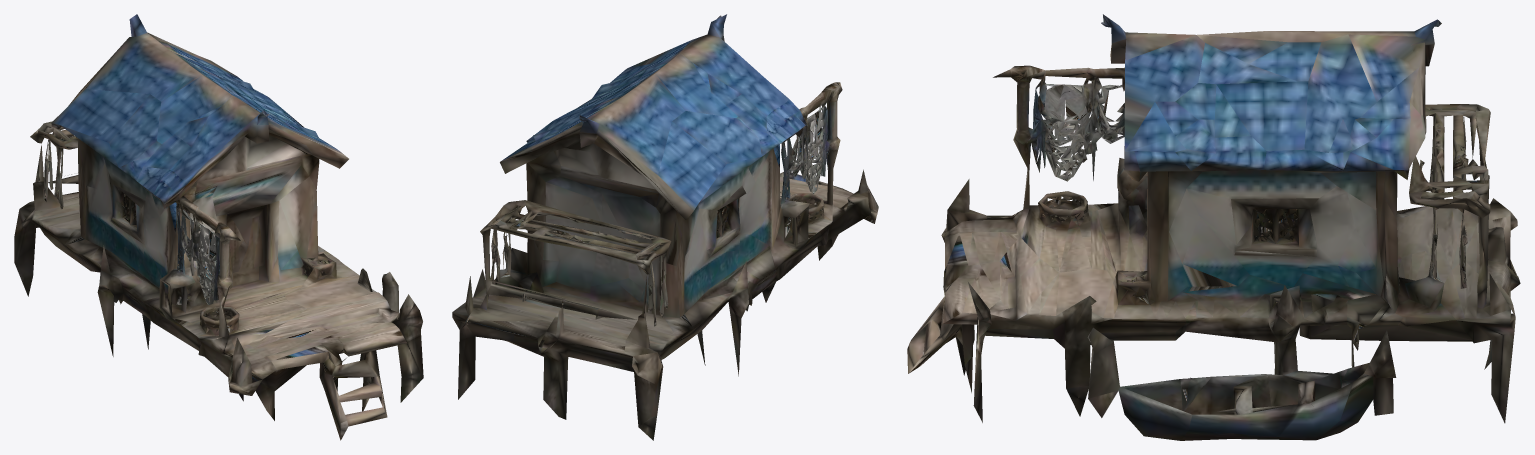
File: fishing_hut_1.glb
3 renders of one model, left to right at view 1: azimuth 30°, elevation 25°; view 2: azimuth 150°, elevation 25°; view 3: azimuth 270°, elevation 25°, orthographic. The views are drawn at different scales.
Visible parts, largest first — view 1: tripo_node_055cae5d-d0ff-4af8-a2d6-0e6e6d40eb04; view 2: tripo_node_055cae5d-d0ff-4af8-a2d6-0e6e6d40eb04; view 3: tripo_node_055cae5d-d0ff-4af8-a2d6-0e6e6d40eb04.
Boxes of the visible parts, box(x1,y1,x2,y2) form: tripo_node_055cae5d-d0ff-4af8-a2d6-0e6e6d40eb04: box(14, 14, 423, 440); tripo_node_055cae5d-d0ff-4af8-a2d6-0e6e6d40eb04: box(452, 14, 878, 440); tripo_node_055cae5d-d0ff-4af8-a2d6-0e6e6d40eb04: box(907, 14, 1520, 440).
Bounding box in the file's own units: 0.5523 × 0.6072 × 0.9564.
1 material, 1 textured.
